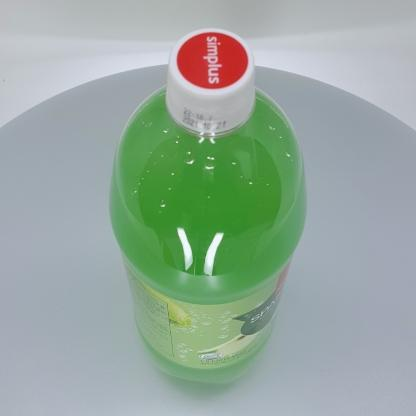----------------: (108, 28, 308, 385)
